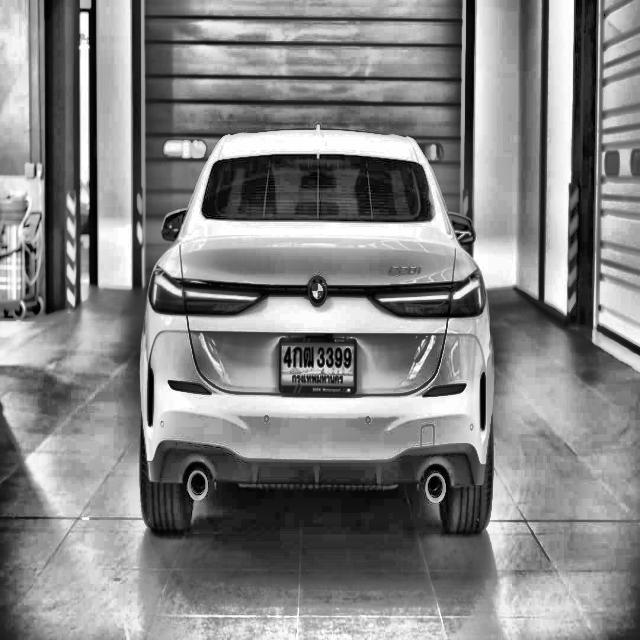license-plate: (278, 334, 358, 398)
